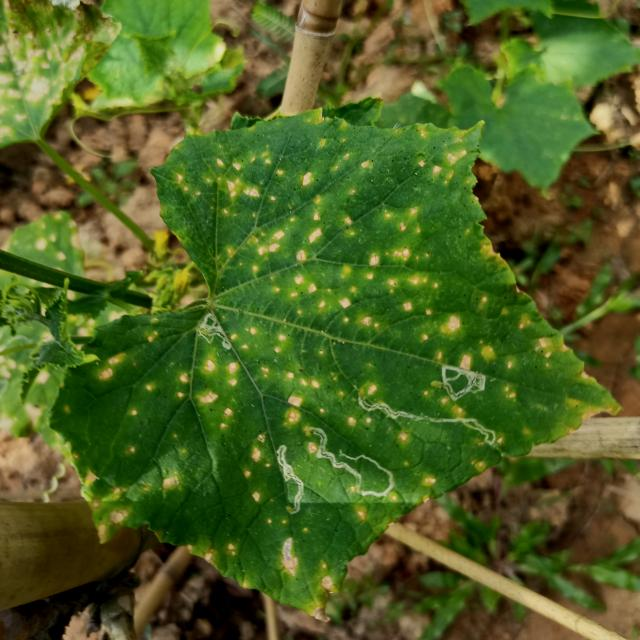disease_cucumber: (174, 134, 572, 372), (74, 460, 182, 540), (144, 357, 242, 436), (262, 518, 340, 597), (252, 362, 317, 430), (243, 428, 270, 514), (347, 414, 414, 444), (184, 538, 240, 563), (422, 389, 464, 418), (101, 351, 123, 389)
